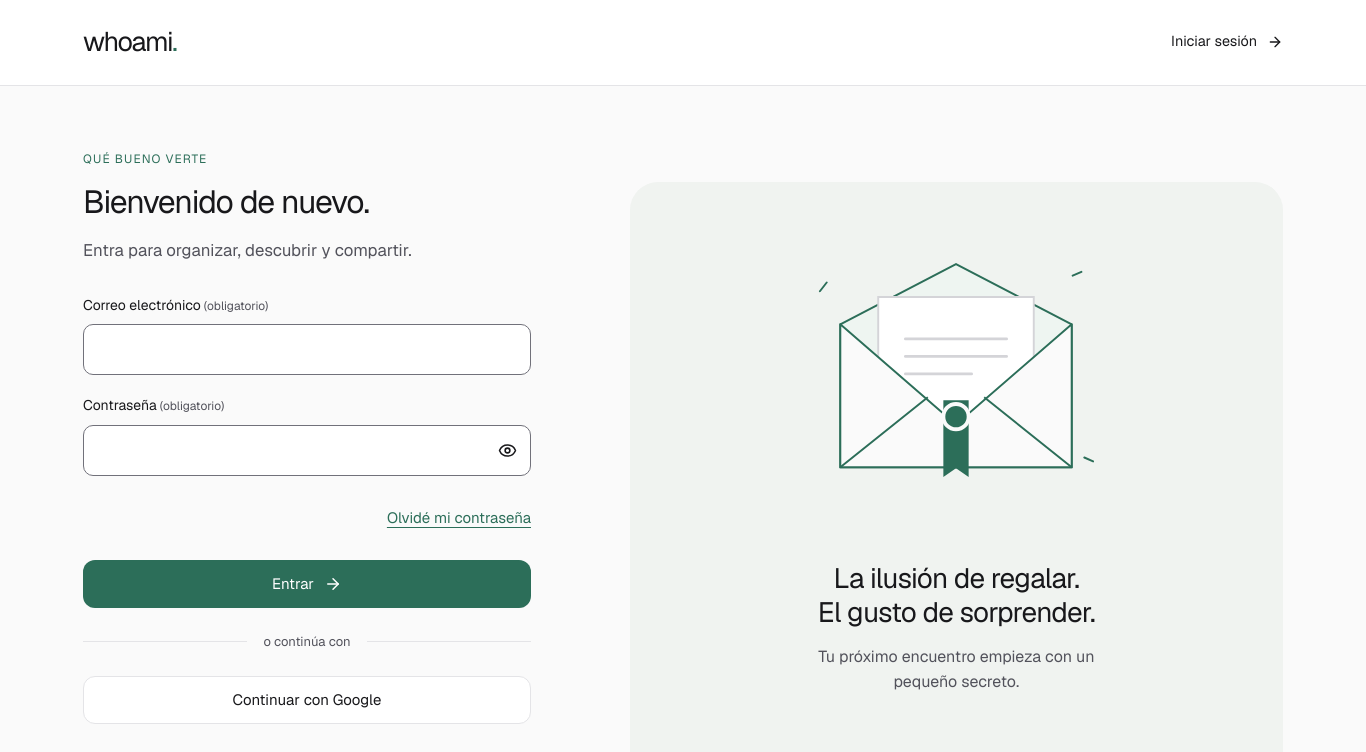
Test: Acceso e invitaciones › protege rutas privadas y conserva la invitación al iniciar sesión
The width and height of the screenshot is (1366, 752).
In the field labelled "Correo electrónico (obligatorio)": (307, 350) [83,324,531,375], type "lucia@example.test"
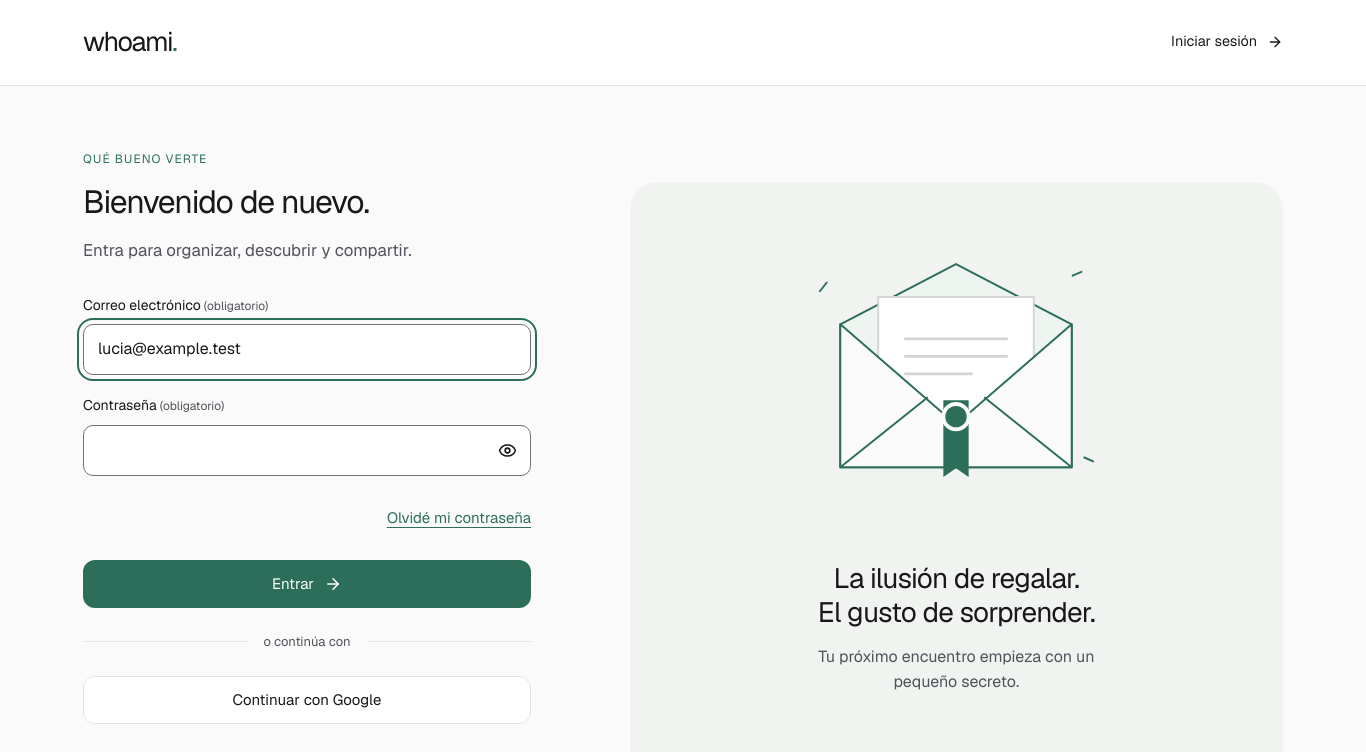
In the password field labelled "Contraseña (obligatorio)": (307, 450) [83,425,531,476], type "Clave-local-123"
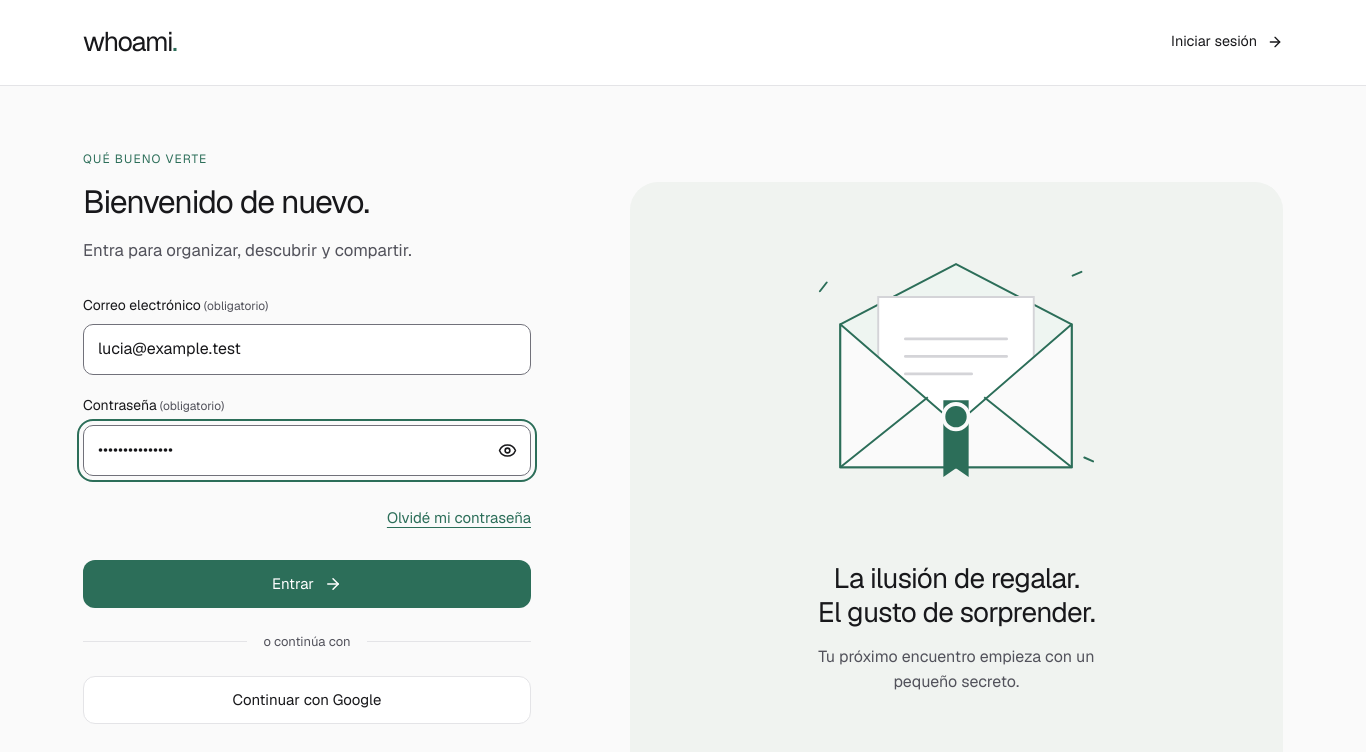
Click the button "Entrar": (307, 584) [83,560,531,608]
(page scrolled)
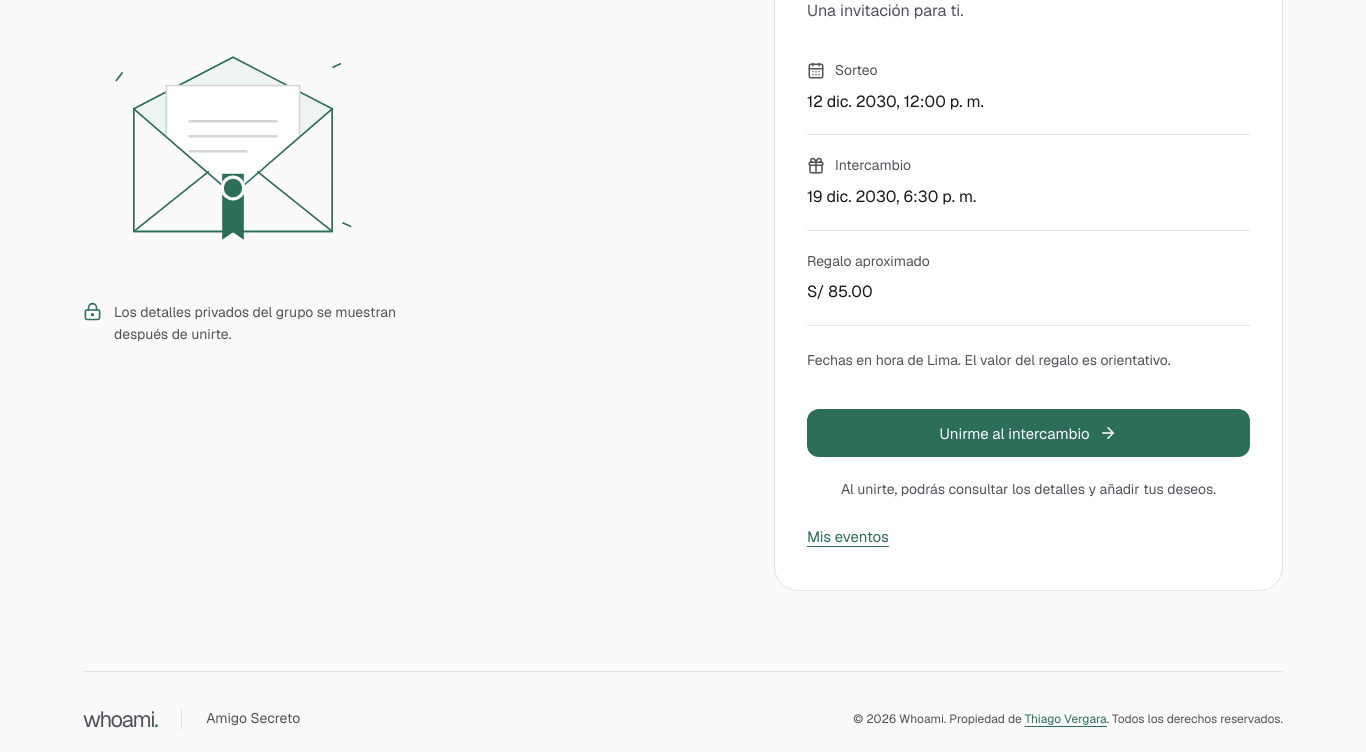
Check: the button "Unirme al intercambio" is shown, box [807,409,1250,457]
